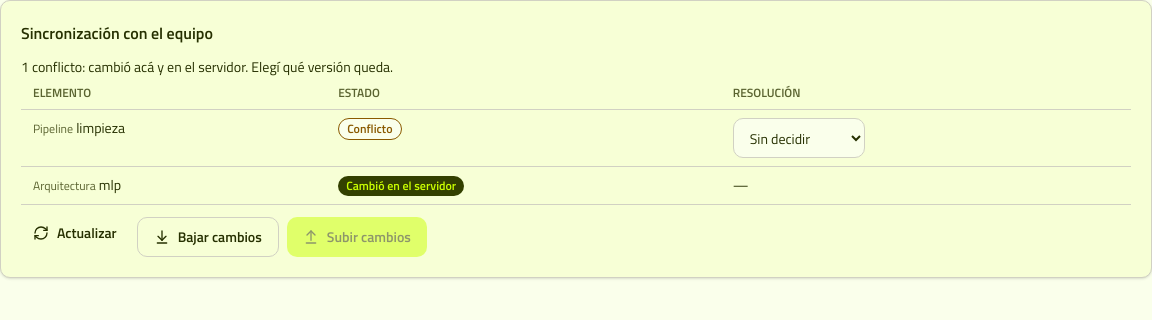
sincronización del proyecto de equipo (RF-SRV-03) › muestra cambios y conflictos y baja con la resolución elegida
Expected: the text "1 conflicto: cambió acá y en el servidor. Elegí qué versión queda." is shown, [21,56,393,77]
Expected: the text "Cambió en el servidor" is shown, [338,176,464,196]
Select "La mía" in the dropdown named "Resolver limpieza": (799,138) [733,118,865,158]
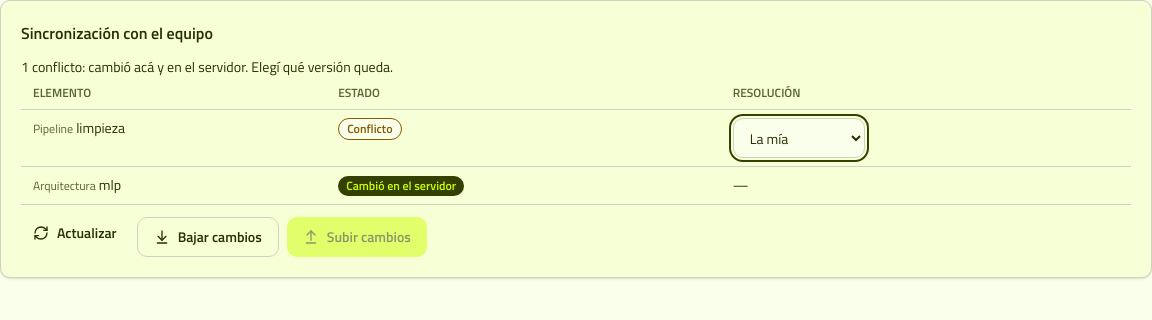
Click the button "Bajar cambios": (208,237) [137,217,279,257]
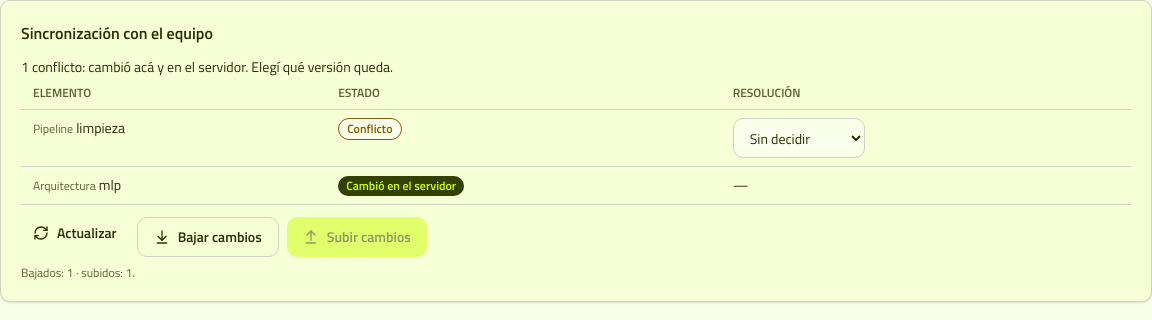
Expected: the text "Bajados: 1 · subidos: 1." is shown, [21,263,135,282]
